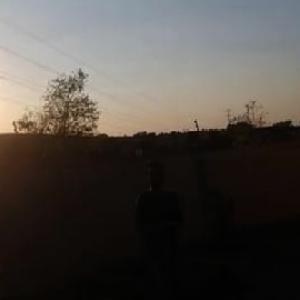follow: (131, 153, 195, 299)
